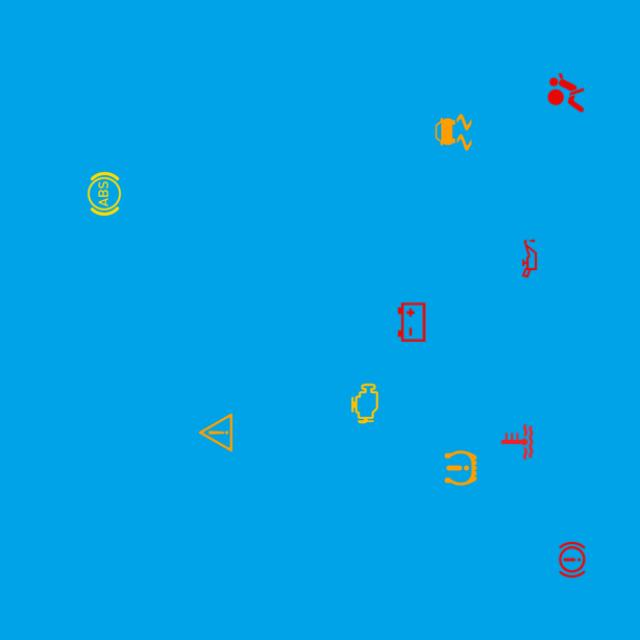Anti Lock Braking System: (80, 170, 128, 218)
Braking System Issue: (548, 536, 596, 584)
Charging System Issue: (388, 298, 436, 346)
Check Engine: (341, 380, 389, 428)
Electronic Stability Problem -ESP-: (430, 108, 478, 156)
Engine Overheating Warning Light: (493, 418, 541, 466)
Low Engine Oil Warning Light: (506, 235, 554, 282)
Low Tire Pressure Warning Light: (436, 444, 484, 492)
Master warning light: (192, 408, 240, 456)
SRS-Airbag: (542, 69, 590, 117)
